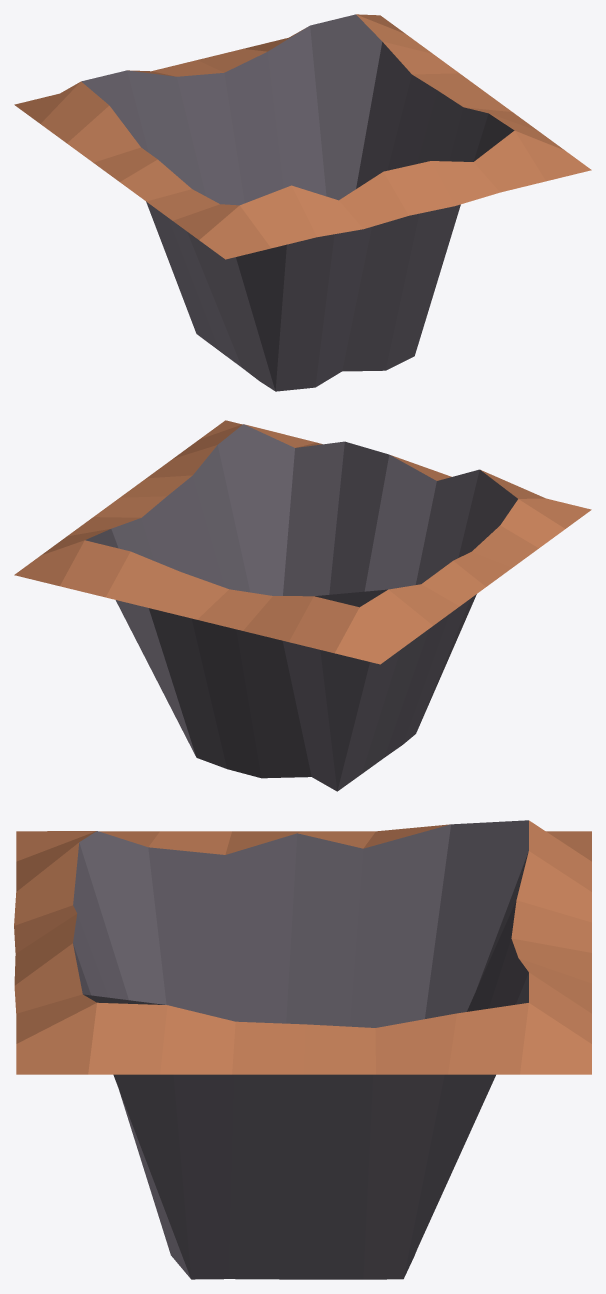
File: PIT.fbx
The picture shows the model from 3 angles, top to bottom: view 1: azimuth 30°, elevation 25°; view 2: azimuth 150°, elevation 25°; view 3: azimuth 270°, elevation 25°; orthographic projection. The views are drawn at different scales.
Parts seen in each view (by area): view 1: Plane.001; view 2: Plane.001; view 3: Plane.001.
Boxes of the visible parts, x1,y1,x2,y2 form: Plane.001: (14, 14, 591, 391); Plane.001: (14, 420, 591, 791); Plane.001: (14, 820, 591, 1279).
Bounding box in the file's own units: 150 × 94.32 × 151.
